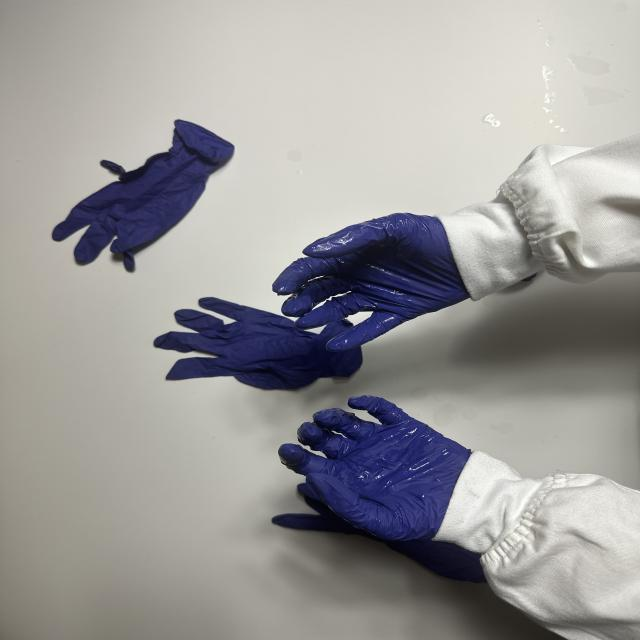gloves_contaminated: (279, 396, 470, 540), (273, 214, 470, 352)
